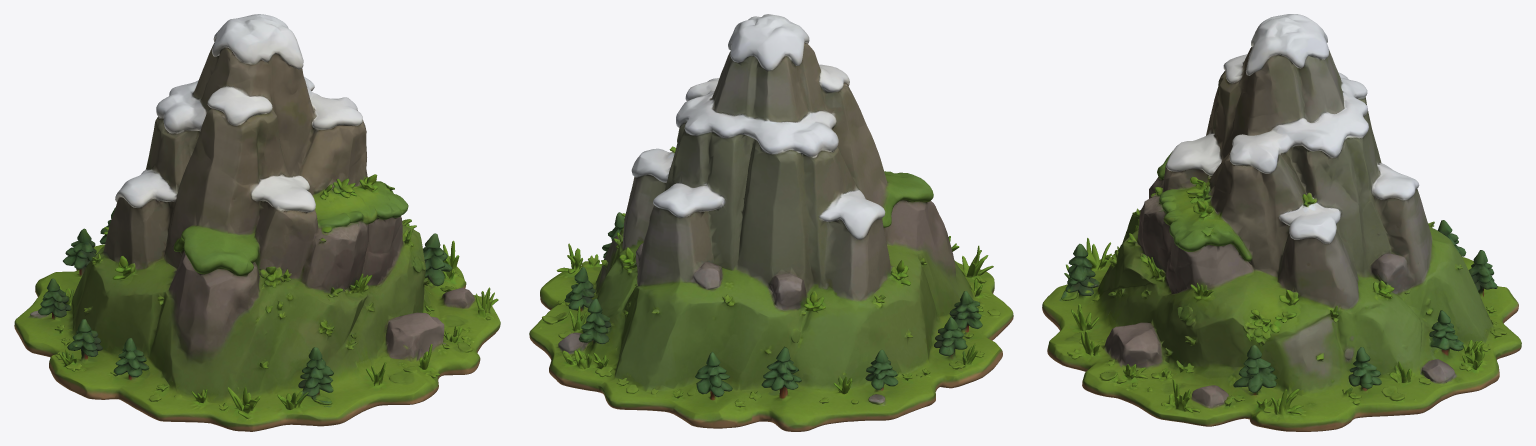
Rendered from mountain1.glb.
3 renders of one model, left to right at view 1: azimuth 30°, elevation 25°; view 2: azimuth 150°, elevation 25°; view 3: azimuth 270°, elevation 25°, orthographic.
Parts seen in each view (by area): view 1: tripo_node_0a355122-d388-470a-9ded-e5bfa7c2eb13; view 2: tripo_node_0a355122-d388-470a-9ded-e5bfa7c2eb13; view 3: tripo_node_0a355122-d388-470a-9ded-e5bfa7c2eb13.
Boxes of the visible parts, x1=… form: tripo_node_0a355122-d388-470a-9ded-e5bfa7c2eb13: x1=14, y1=14, x2=500, y2=431; tripo_node_0a355122-d388-470a-9ded-e5bfa7c2eb13: x1=529, y1=14, x2=1013, y2=431; tripo_node_0a355122-d388-470a-9ded-e5bfa7c2eb13: x1=1042, y1=14, x2=1521, y2=431.
Size of the model in its own units: 0.9995 by 0.7225 by 1.
Materials: 1 (1 with a texture image).
